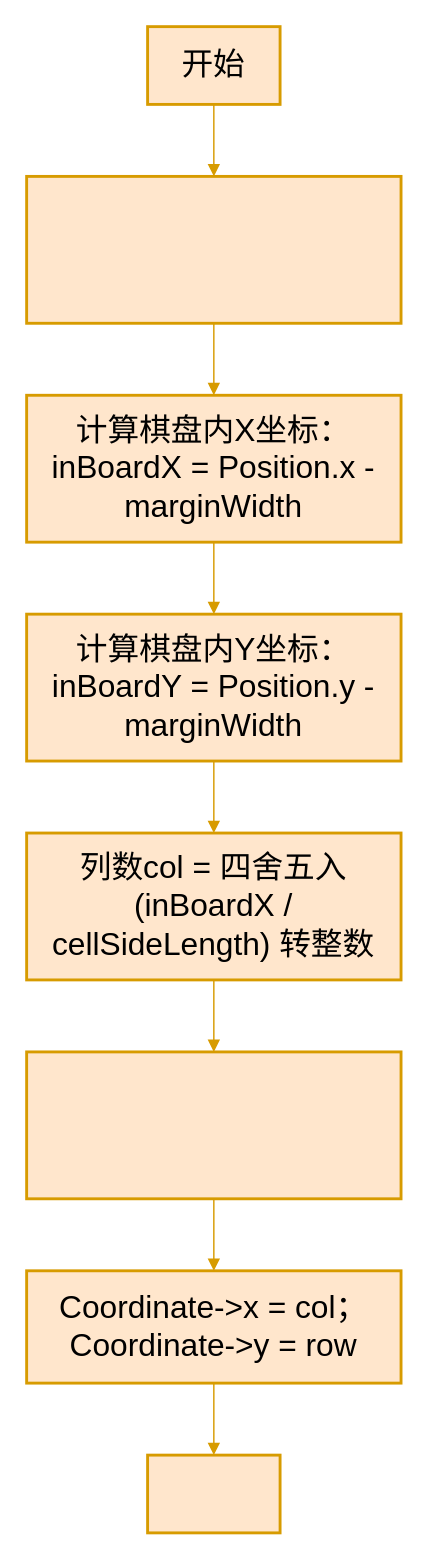
This 426x1558 diagram has some shape labels left out. The shapes that lost their labels are listed below. From the top down, each one's centre as x and y in pixels, then its label:
[213,249]: 输入：鼠标像素坐标Position、坐标指针Coordinate
[213,1125]: 行数row = 四舍五入(inBoardY / cellSideLength) 转整数
[213,1493]: 结束
